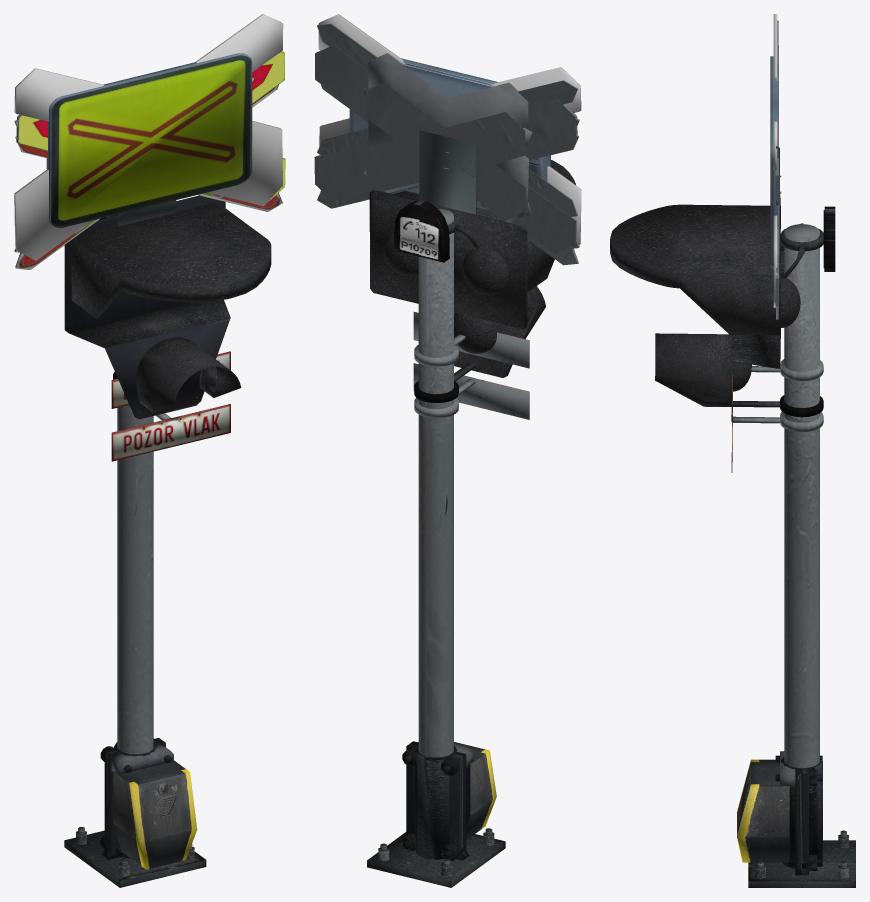
File: noveVUD.obj
The picture shows the model from 3 angles, left to right: view 1: azimuth 30°, elevation 25°; view 2: azimuth 150°, elevation 25°; view 3: azimuth 270°, elevation 25°; orthographic projection. The views are drawn at different scales.
Parts seen in each view (by area): view 1: kriz_sk_refl, vud_poz, stozar_dlouhy, kriz_xk_refl_velky, vud_bez_poz, podstavec, pozor_vlak, podklad, kriz_1k_refl_velky, zaklad, kriz_xk_front_velky, kriz_ram (+1 smaller); view 2: stozar_dlouhy, vud_poz, kriz_1k_refl_maly, kriz_1k_refl_velky, zaklad, kriz_xk_refl_maly, vud_bez_poz, kriz_xk_back_velky, kriz_ram, stozar_dlouhy_pruhy, podklad, kriz_xk_refl_velky (+5 smaller); view 3: stozar_dlouhy, vud_poz, vud_bez_poz, podstavec, zaklad, podklad, stozar_dlouhy_pruhy, kriz_xk_refl_velky, pozor_vlak, kriz_sk_refl, pozor_vlak_up, kriz_sk.
Part boxes in pixels (x1,y1,x2,y2): kriz_sk_refl: (47, 53, 252, 227); vud_poz: (64, 195, 270, 419); stozar_dlouhy: (117, 406, 153, 754); kriz_xk_refl_velky: (14, 14, 283, 260); vud_bez_poz: (65, 195, 271, 333); podstavec: (111, 745, 197, 869); pozor_vlak: (111, 404, 230, 461); podklad: (64, 827, 206, 887); kriz_1k_refl_velky: (16, 51, 285, 203); zaklad: (100, 738, 171, 859); kriz_xk_front_velky: (15, 85, 281, 269); kriz_ram: (118, 200, 176, 226); stozar_dlouhy: (418, 217, 453, 757); vud_poz: (374, 160, 575, 402); kriz_1k_refl_maly: (365, 82, 525, 220); kriz_1k_refl_velky: (314, 45, 577, 254); zaklad: (401, 741, 470, 861); kriz_xk_refl_maly: (368, 53, 528, 222); vud_bez_poz: (369, 161, 570, 303); kriz_xk_back_velky: (317, 23, 578, 265); kriz_ram: (419, 130, 476, 214); stozar_dlouhy_pruhy: (418, 208, 453, 447); podklad: (367, 828, 505, 887); kriz_xk_refl_velky: (318, 14, 581, 245); stozar_dlouhy: (784, 233, 819, 768); vud_poz: (610, 194, 835, 421); vud_bez_poz: (610, 198, 835, 368); podstavec: (737, 751, 795, 862); zaklad: (775, 755, 822, 875); podklad: (748, 830, 855, 887); stozar_dlouhy_pruhy: (784, 224, 819, 461); kriz_xk_refl_velky: (773, 14, 777, 307); pozor_vlak: (731, 392, 823, 472); kriz_sk_refl: (770, 56, 776, 267); pozor_vlak_up: (731, 359, 823, 421); kriz_sk: (772, 78, 778, 268).
Size of the model in its own units: 0.9937 by 2.9 by 0.8072.
